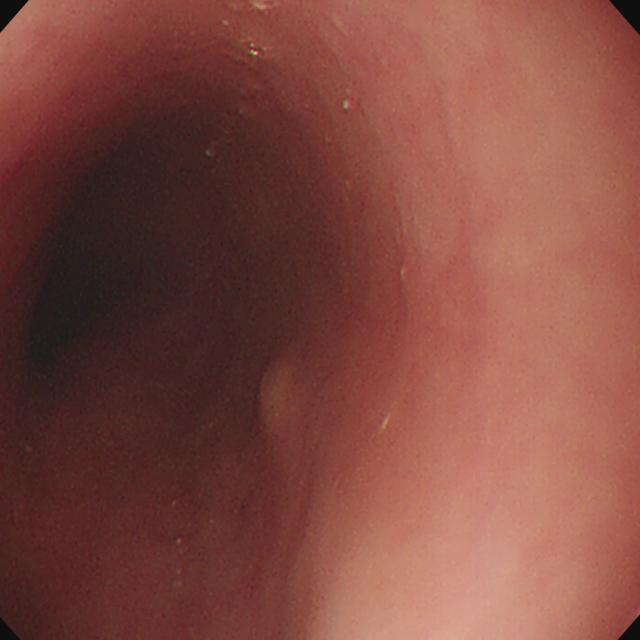E: (11, 206, 112, 372)
J: (254, 341, 312, 442)
